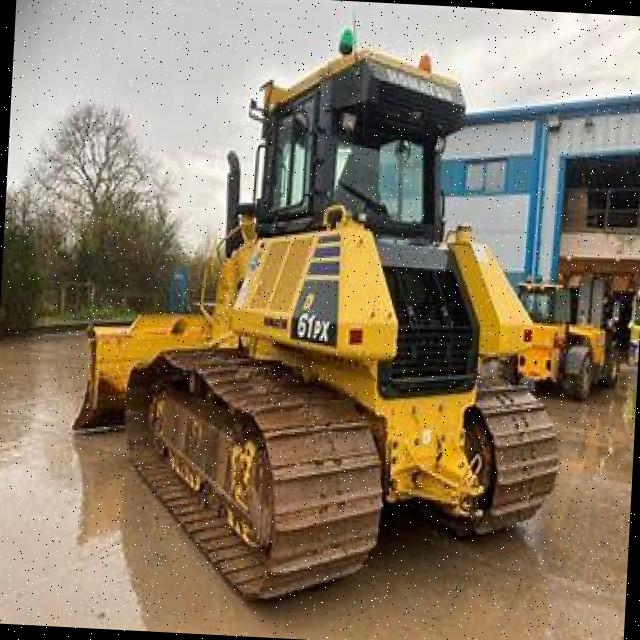Bulldozer: (49, 19, 615, 618)
